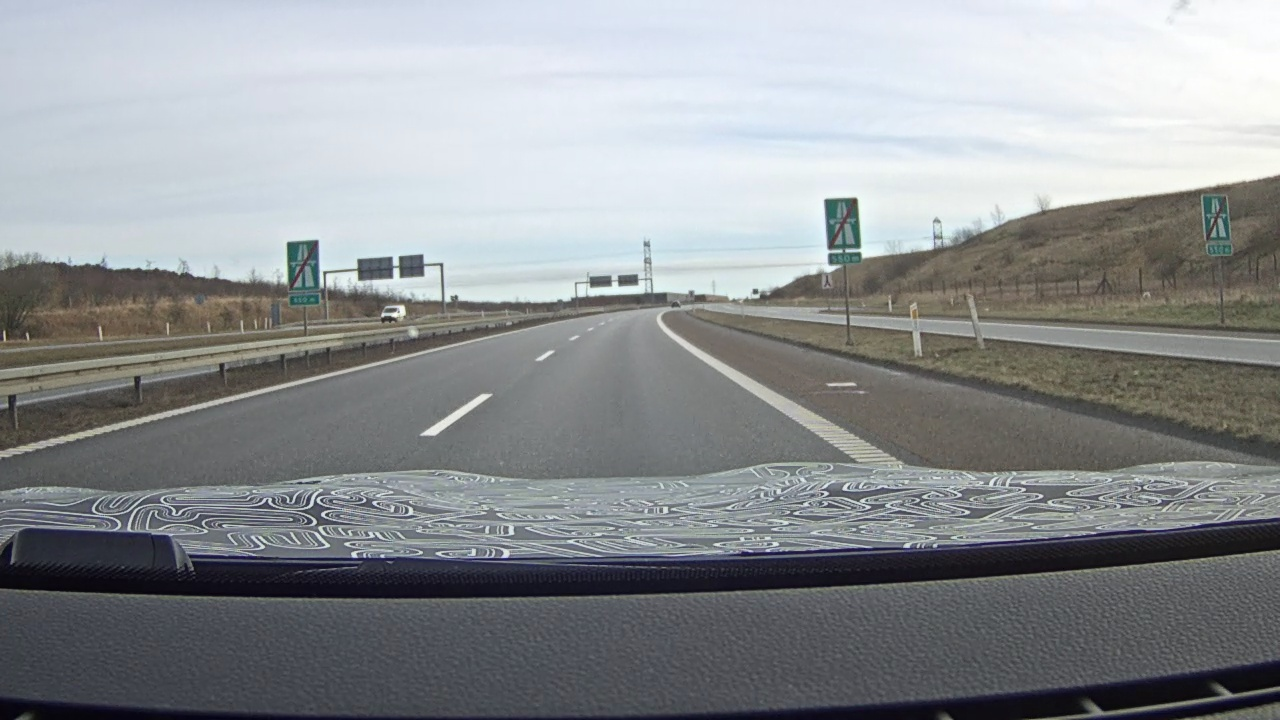Regular_End_Of_Motorway: (824, 197, 862, 250), (285, 240, 321, 292)
